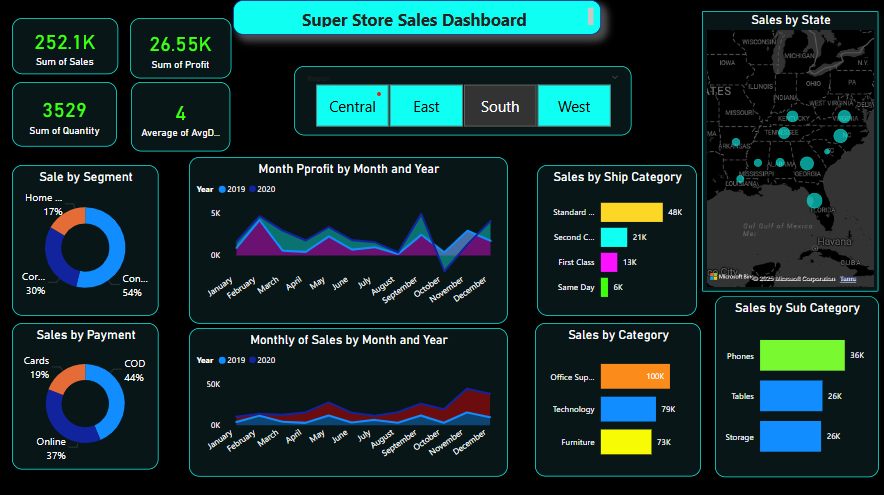

The page's visual inventory and layout, read from the dashboard file:
{"tool":"powerbi","page":{"name":"Page 1","canvas":[1280,720],"ordinal":0},"visuals":[{"type":"clusteredBarChart","title":"Sales by Category","fields":{"Category":["SuperStore_Sales_Dataset.Category"],"Y":["Sum(SuperStore_Sales_Dataset.Sales)"]},"box":[772.9,468.6,238.6,221.4],"z":0},{"type":"clusteredBarChart","title":"Sales by Sub Category","fields":{"Category":["SuperStore_Sales_Dataset.Sub-Category"],"Y":["Sum(SuperStore_Sales_Dataset.Sales)"]},"box":[1032.9,428.6,235.7,261.4],"z":1000},{"type":"clusteredBarChart","title":"Sales by Ship Category","fields":{"Category":["SuperStore_Sales_Dataset.Ship Mode"],"Y":["Sum(SuperStore_Sales_Dataset.Sales)"]},"box":[776.1,240.2,230.1,216.7],"z":2000},{"type":"stackedAreaChart","title":"Monthly of Sales by Month and Year","fields":{"Y":["Sum(SuperStore_Sales_Dataset.Sales)"],"Category":["SuperStore_Sales_Dataset.Order Date.Variation.Date Hierarchy.Month","SuperStore_Sales_Dataset.Order Date.Variation.Date Hierarchy.Day"],"Series":["SuperStore_Sales_Dataset.Order Date.Variation.Date Hierarchy.Year"]},"box":[275.7,475.7,458.6,214.3],"z":3000},{"type":"stackedAreaChart","title":"Month Pprofit by Month and Year","fields":{"Category":["SuperStore_Sales_Dataset.Order Date.Variation.Date Hierarchy.Month","SuperStore_Sales_Dataset.Order Date.Variation.Date Hierarchy.Day"],"Series":["SuperStore_Sales_Dataset.Order Date.Variation.Date Hierarchy.Year"],"Y":["Sum(SuperStore_Sales_Dataset.Profit)"]},"box":[275.7,228.6,458.6,240],"z":4000},{"type":"donutChart","title":"Sale by Segment ","fields":{"Category":["SuperStore_Sales_Dataset.Segment"],"Y":["Sum(SuperStore_Sales_Dataset.Sales)"]},"box":[20,240,211.4,217.1],"z":5000},{"type":"donutChart","title":"Sales by Payment ","fields":{"Category":["SuperStore_Sales_Dataset.Payment Mode"],"Y":["Sum(SuperStore_Sales_Dataset.Sales)"]},"box":[20,468.6,211.4,211.4],"z":6000},{"type":"slicer","fields":{"Values":["SuperStore_Sales_Dataset.Region"]},"box":[425.7,98.6,485.7,100],"z":7000},{"type":"card","fields":{"Values":["Sum(SuperStore_Sales_Dataset.Sales)"]},"box":[20,28.6,152.9,81.4],"z":8000},{"type":"card","fields":{"Values":["Sum(SuperStore_Sales_Dataset.Quantity)"]},"box":[20,121.4,151.4,92.9],"z":9000},{"type":"card","fields":{"Values":["Sum(SuperStore_Sales_Dataset.Profit)"]},"box":[190,28.6,145.7,87.1],"z":10000},{"type":"card","fields":{"Values":["Avg(SuperStore_Sales_Dataset.AvgDelivery)"]},"box":[191.4,121.4,142.9,100],"z":11000},{"type":"map","title":"Sales by State","fields":{"Category":["SuperStore_Sales_Dataset.State"],"Size":["Sum(SuperStore_Sales_Dataset.Sales)"]},"box":[1014.3,18.6,254.3,404.3],"z":12000},{"type":"textbox","box":[338.6,2.9,530,50],"z":13000}]}

Visuals, with their boxes in screenshot pixels (x1, y1, x2, y2), scaled from the page's 1280x720 canvas onto the 884x495 screenshot:
"Sales by Category" clusteredBarChart: crop(534, 322, 699, 474)
"Sales by Sub Category" clusteredBarChart: crop(713, 295, 876, 474)
"Sales by Ship Category" clusteredBarChart: crop(536, 165, 695, 314)
"Monthly of Sales by Month and Year" stackedAreaChart: crop(190, 327, 507, 474)
"Month Pprofit by Month and Year" stackedAreaChart: crop(190, 157, 507, 322)
"Sale by Segment " donutChart: crop(14, 165, 160, 314)
"Sales by Payment " donutChart: crop(14, 322, 160, 468)
slicer - SuperStore_Sales_Dataset.Region: crop(294, 68, 629, 137)
card - Sum(SuperStore_Sales_Dataset.Sales): crop(14, 20, 119, 76)
card - Sum(SuperStore_Sales_Dataset.Quantity): crop(14, 83, 118, 147)
card - Sum(SuperStore_Sales_Dataset.Profit): crop(131, 20, 232, 80)
card - Avg(SuperStore_Sales_Dataset.AvgDelivery): crop(132, 83, 231, 152)
"Sales by State" map: crop(701, 13, 876, 291)
textbox: crop(234, 2, 600, 36)
